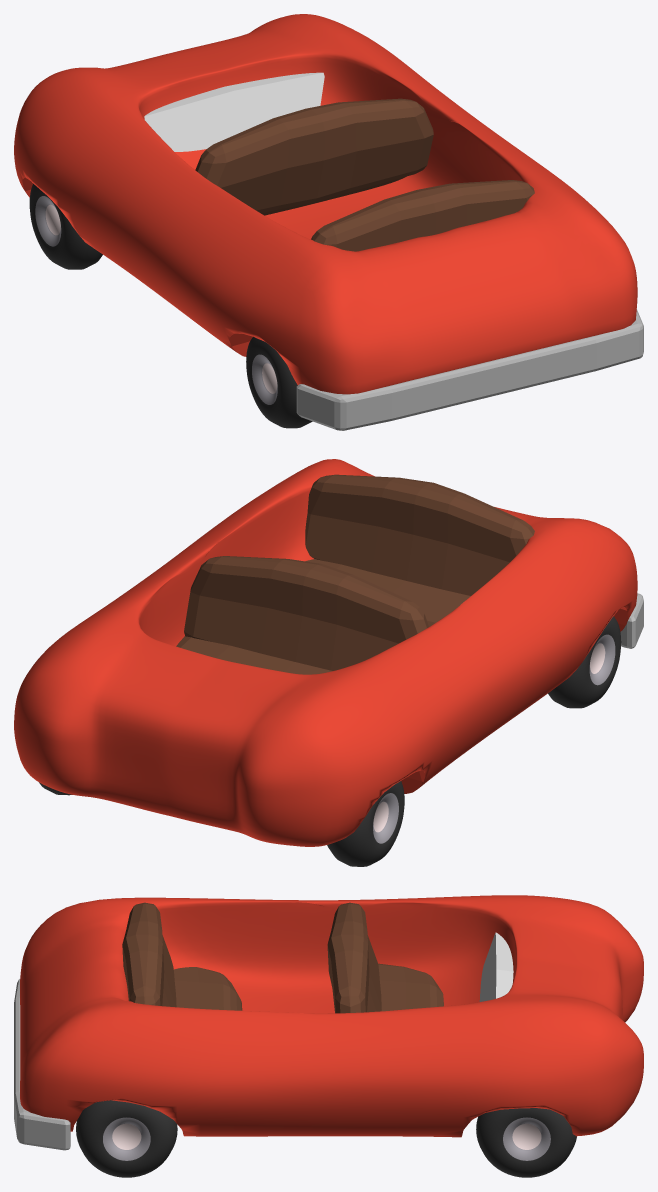
The model's file is clowncar3.glb.
3 renders of one model, top to bottom at view 1: azimuth 30°, elevation 25°; view 2: azimuth 150°, elevation 25°; view 3: azimuth 270°, elevation 25°, orthographic. The views are drawn at different scales.
Parts seen in each view (by area): view 1: Carbod, Seatback.002, Back_Bunper, Seatback.004, Dash, Wheel.BL, Wheel.FL; view 2: Carbod, Seatback.002, Seatback.004, Wheel.FL, Wheel.BL, Seatback.001, Seatback.003, Back_Bunper; view 3: Carbod, Wheel.BR, Wheel.FR, Seatback.002, Seatback.004, Back_Bunper, Seatback.003, Seatback.001, Dash.
Boxes of the visible parts, bbox=[...] form: Carbod: bbox=[14, 14, 637, 394]; Seatback.002: bbox=[195, 98, 433, 213]; Back_Bunper: bbox=[296, 309, 643, 430]; Seatback.004: bbox=[311, 180, 534, 251]; Dash: bbox=[144, 72, 324, 151]; Wheel.BL: bbox=[246, 336, 312, 428]; Wheel.FL: bbox=[29, 184, 102, 269]; Carbod: bbox=[14, 459, 637, 846]; Seatback.002: bbox=[184, 556, 428, 670]; Seatback.004: bbox=[305, 474, 534, 595]; Wheel.FL: bbox=[327, 781, 404, 866]; Wheel.BL: bbox=[548, 616, 621, 708]; Seatback.001: bbox=[305, 559, 470, 626]; Seatback.003: bbox=[176, 636, 332, 674]; Back_Bunper: bbox=[620, 593, 643, 648]; Carbod: bbox=[20, 895, 643, 1137]; Wheel.BR: bbox=[76, 1100, 177, 1177]; Wheel.FR: bbox=[476, 1108, 576, 1177]; Seatback.002: bbox=[327, 902, 381, 1013]; Seatback.004: bbox=[122, 902, 176, 1007]; Back_Bunper: bbox=[14, 979, 70, 1150]; Seatback.003: bbox=[378, 963, 443, 1011]; Seatback.001: bbox=[174, 967, 242, 1010]; Dash: bbox=[479, 932, 513, 1001].
Size of the model in its own units: 2.83 by 1.37 by 4.49.
